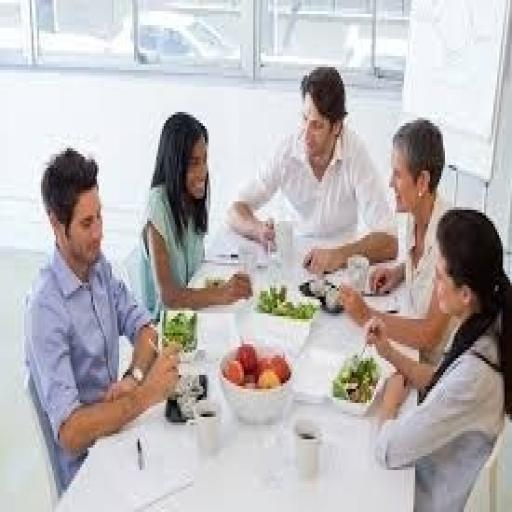eating: (20, 59, 508, 506), (22, 143, 182, 487), (356, 204, 510, 509), (226, 62, 398, 274), (136, 109, 253, 322)
